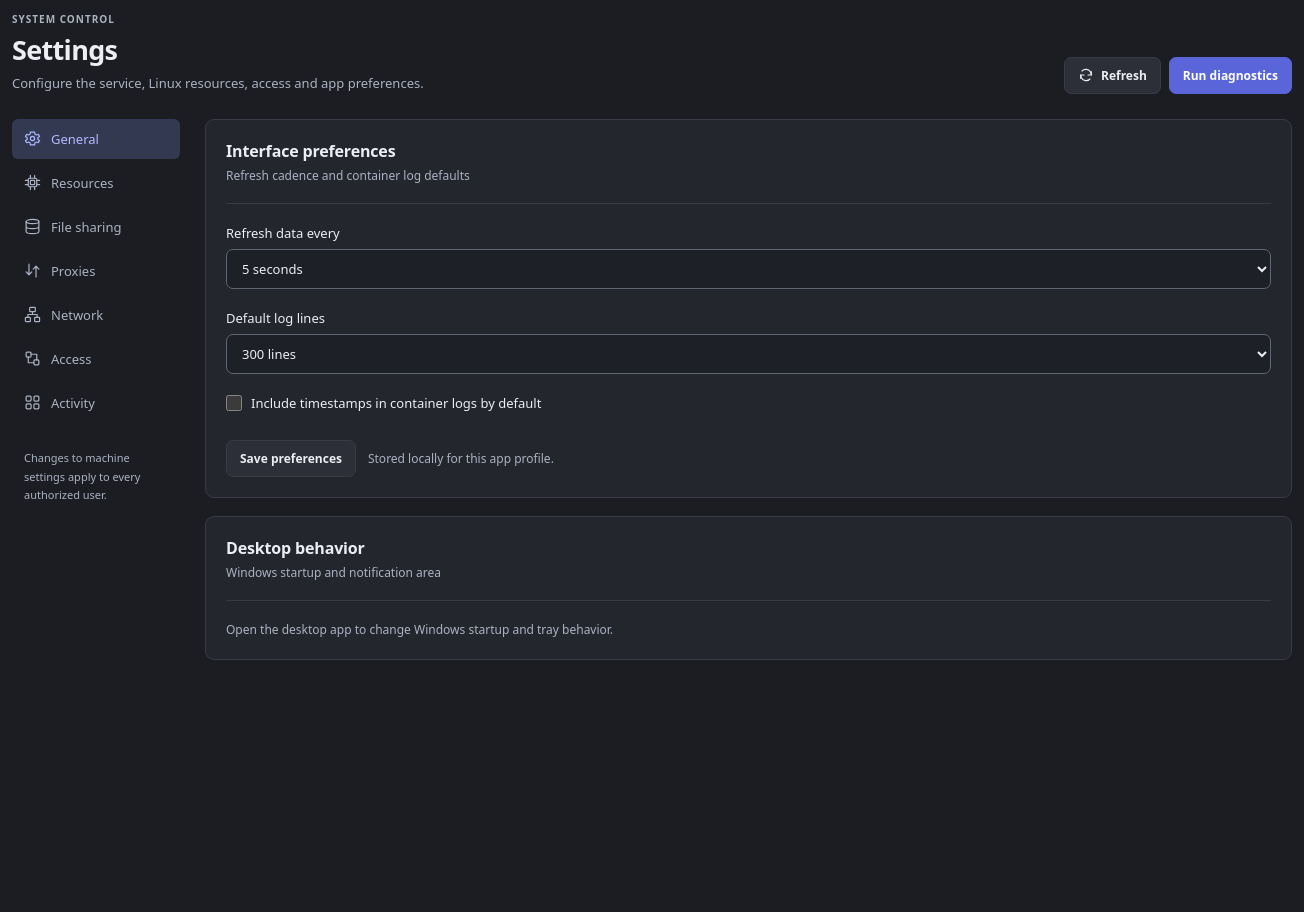
Test: shows when the Linux engine is sleeping in Resource saver
Click the button "Resources": (96, 183) [12, 163, 180, 203]
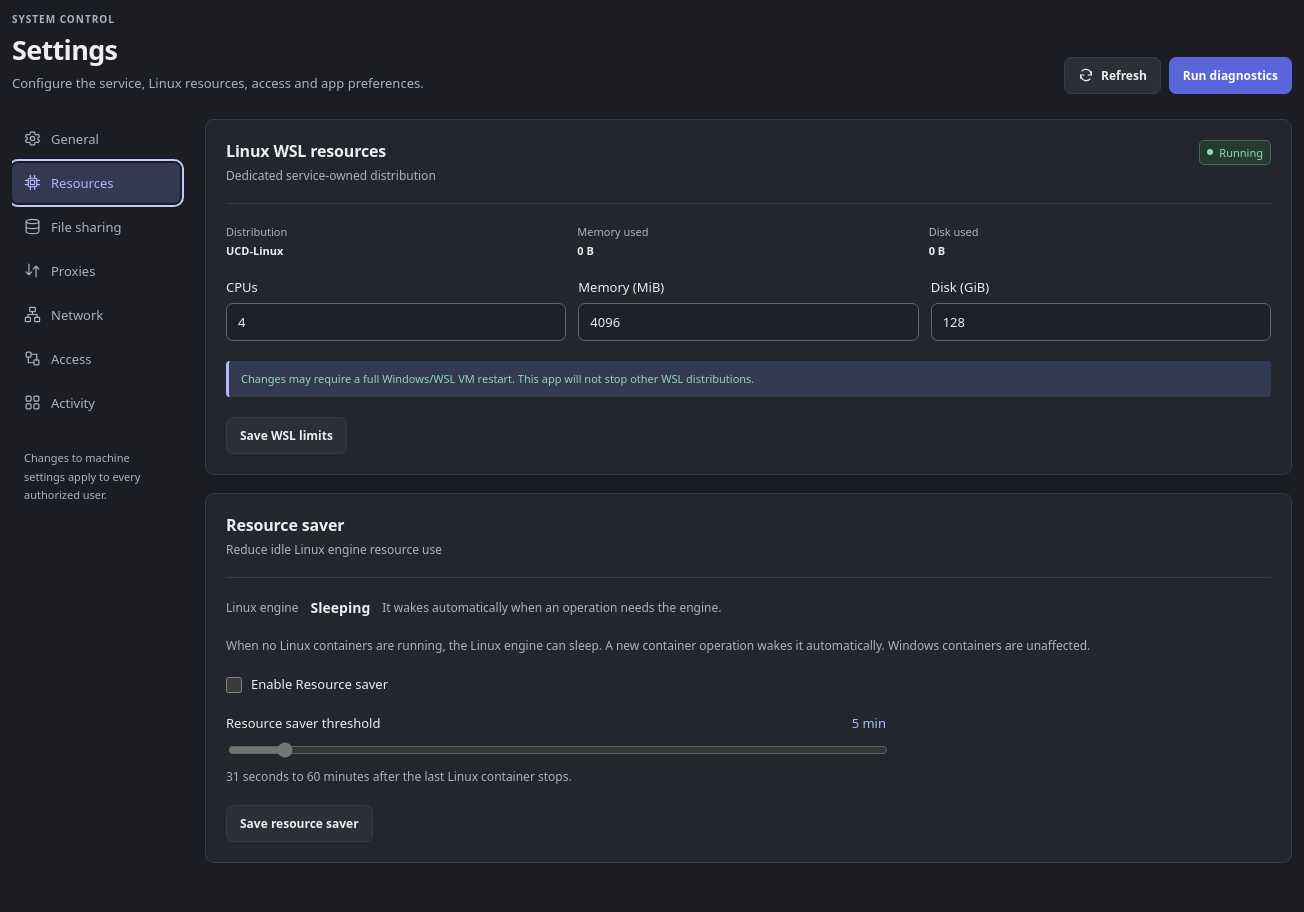
Expected: the text "Sleeping" is shown, [310, 598, 370, 617]
Expected: the text "It wakes automatically when an operation needs the engine." is shown, [382, 599, 722, 616]
